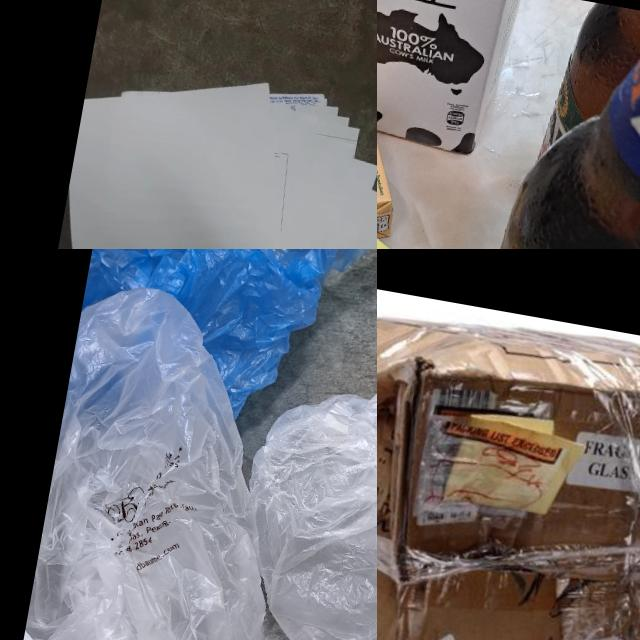caixinha: (377, 0, 521, 158)
garrafa de vidro: (459, 0, 640, 249), (535, 0, 640, 200)
papel: (25, 51, 377, 249)
papelão: (377, 276, 640, 640)
sacola plástica: (7, 278, 348, 640), (66, 249, 377, 452), (205, 280, 377, 640)
